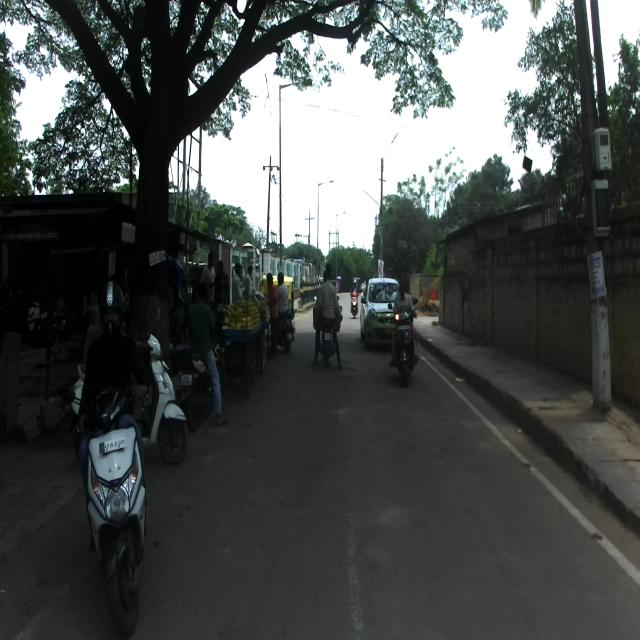electric pole ahead at: (572, 0, 630, 419), (72, 384, 158, 634)
motorcycle ahead at: (388, 304, 422, 390), (308, 310, 348, 376)
